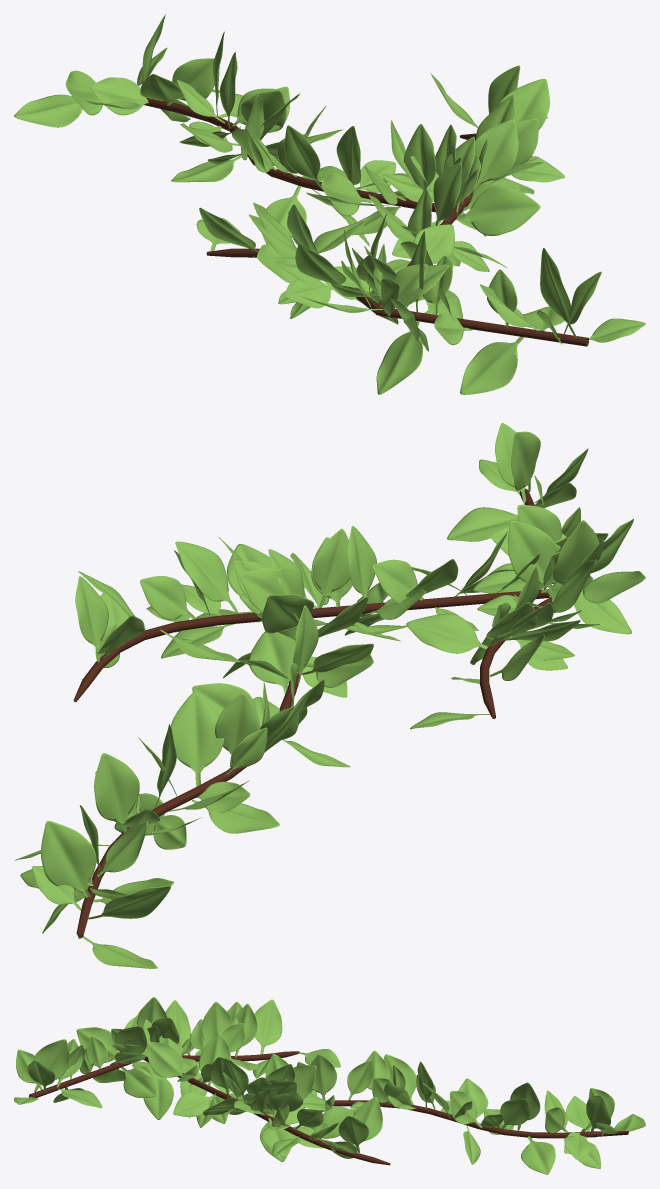
Rendered from vine 1.fbx.
3 views of the same model, one above another, from view 1: azimuth 30°, elevation 25°; view 2: azimuth 150°, elevation 25°; view 3: azimuth 270°, elevation 25° (orthographic). The views are drawn at different scales.
Parts seen in each view (by area): view 1: Vert, Vert|OG Leaf|Dupli|23, Vert|OG Leaf|Dupli|119, Vert|OG Leaf|Dupli|14, Vert|OG Leaf|Dupli|125, Vert|OG Leaf|Dupli|111, Vert|OG Leaf|Dupli|5, Vert|OG Leaf|Dupli|61, Vert|OG Leaf|Dupli|113, Vert|OG Leaf|Dupli|106, Vert|OG Leaf|Dupli|76, Vert|OG Leaf|Dupli|21 (+41 smaller); view 2: Vert, Vert|OG Leaf|Dupli|108, Vert|OG Leaf|Dupli|87, Vert|OG Leaf|Dupli|97, Vert|OG Leaf|Dupli|43, Vert|OG Leaf|Dupli|57, Vert|OG Leaf|Dupli|10, Vert|OG Leaf|Dupli|20, Vert|OG Leaf|Dupli|74, Vert|OG Leaf|Dupli|84, Vert|OG Leaf|Dupli|, Vert|OG Leaf|Dupli|7 (+32 smaller); view 3: Vert, Vert|OG Leaf|Dupli|35, Vert|OG Leaf|Dupli|58, Vert|OG Leaf|Dupli|113, Vert|OG Leaf|Dupli|99, Vert|OG Leaf|Dupli|128, Vert|OG Leaf|Dupli|56, Vert|OG Leaf|Dupli|2, Vert|OG Leaf|Dupli|72, Vert|OG Leaf|Dupli|40, Vert|OG Leaf|Dupli|29, Vert|OG Leaf|Dupli|31 (+54 smaller).
Part boxes in pixels (left/top/right/bottom): Vert: left=144, top=97, right=588, bottom=346; Vert|OG Leaf|Dupli|23: left=455, top=185, right=540, bottom=235; Vert|OG Leaf|Dupli|119: left=460, top=336, right=523, bottom=394; Vert|OG Leaf|Dupli|14: left=472, top=119, right=518, bottom=193; Vert|OG Leaf|Dupli|125: left=376, top=321, right=422, bottom=394; Vert|OG Leaf|Dupli|111: left=14, top=94, right=82, bottom=127; Vert|OG Leaf|Dupli|5: left=498, top=79, right=549, bottom=129; Vert|OG Leaf|Dupli|61: left=403, top=124, right=436, bottom=191; Vert|OG Leaf|Dupli|113: left=540, top=248, right=576, bottom=337; Vert|OG Leaf|Dupli|106: left=90, top=77, right=148, bottom=115; Vert|OG Leaf|Dupli|76: left=284, top=125, right=322, bottom=189; Vert|OG Leaf|Dupli|21: left=433, top=162, right=461, bottom=225; Vert: left=73, top=488, right=552, bottom=938; Vert|OG Leaf|Dupli|108: left=41, top=821, right=96, bottom=897; Vert|OG Leaf|Dupli|87: left=171, top=692, right=224, bottom=786; Vert|OG Leaf|Dupli|97: left=94, top=753, right=139, bottom=832; Vert|OG Leaf|Dupli|43: left=508, top=520, right=556, bottom=593; Vert|OG Leaf|Dupli|57: left=406, top=613, right=487, bottom=653; Vert|OG Leaf|Dupli|10: left=175, top=541, right=238, bottom=614; Vert|OG Leaf|Dupli|20: left=313, top=528, right=350, bottom=608; Vert|OG Leaf|Dupli|74: left=249, top=631, right=297, bottom=694; Vert|OG Leaf|Dupli|84: left=215, top=693, right=260, bottom=767; Vert|OG Leaf|Dupli|: left=75, top=576, right=108, bottom=662; Vert|OG Leaf|Dupli|7: left=140, top=576, right=195, bottom=620; Vert: left=29, top=1051, right=628, bottom=1165; Vert|OG Leaf|Dupli|35: left=146, top=1042, right=188, bottom=1082; Vert|OG Leaf|Dupli|58: left=254, top=999, right=282, bottom=1054; Vert|OG Leaf|Dupli|113: left=33, top=1039, right=69, bottom=1092; Vert|OG Leaf|Dupli|99: left=521, top=1136, right=555, bottom=1174; Vert|OG Leaf|Dupli|128: left=121, top=1066, right=156, bottom=1097; Vert|OG Leaf|Dupli|56: left=201, top=1001, right=233, bottom=1042; Vert|OG Leaf|Dupli|2: left=353, top=1097, right=382, bottom=1148; Vert|OG Leaf|Dupli|72: left=310, top=1054, right=336, bottom=1100; Vert|OG Leaf|Dupli|40: left=143, top=1078, right=173, bottom=1119; Vert|OG Leaf|Dupli|29: left=173, top=1092, right=216, bottom=1117; Vert|OG Leaf|Dupli|31: left=198, top=1032, right=231, bottom=1086.
Bounding box in the file's own units: 201 × 428 × 88.35.
